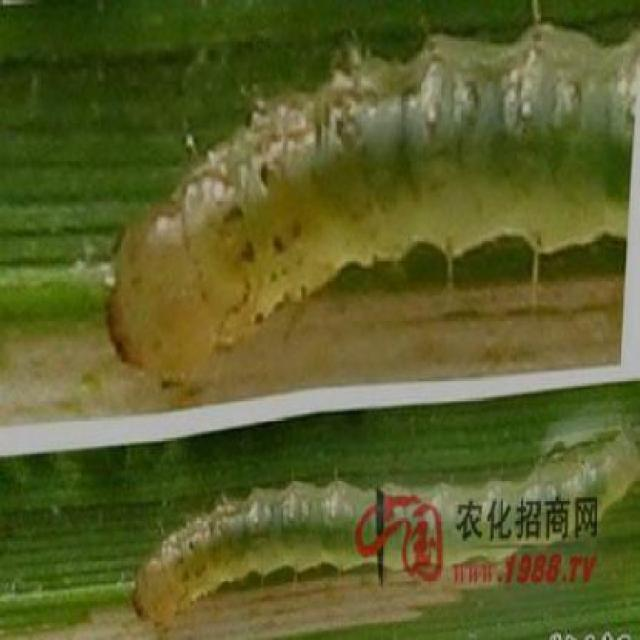leaf-folder: (100, 11, 640, 395), (114, 472, 357, 638)
